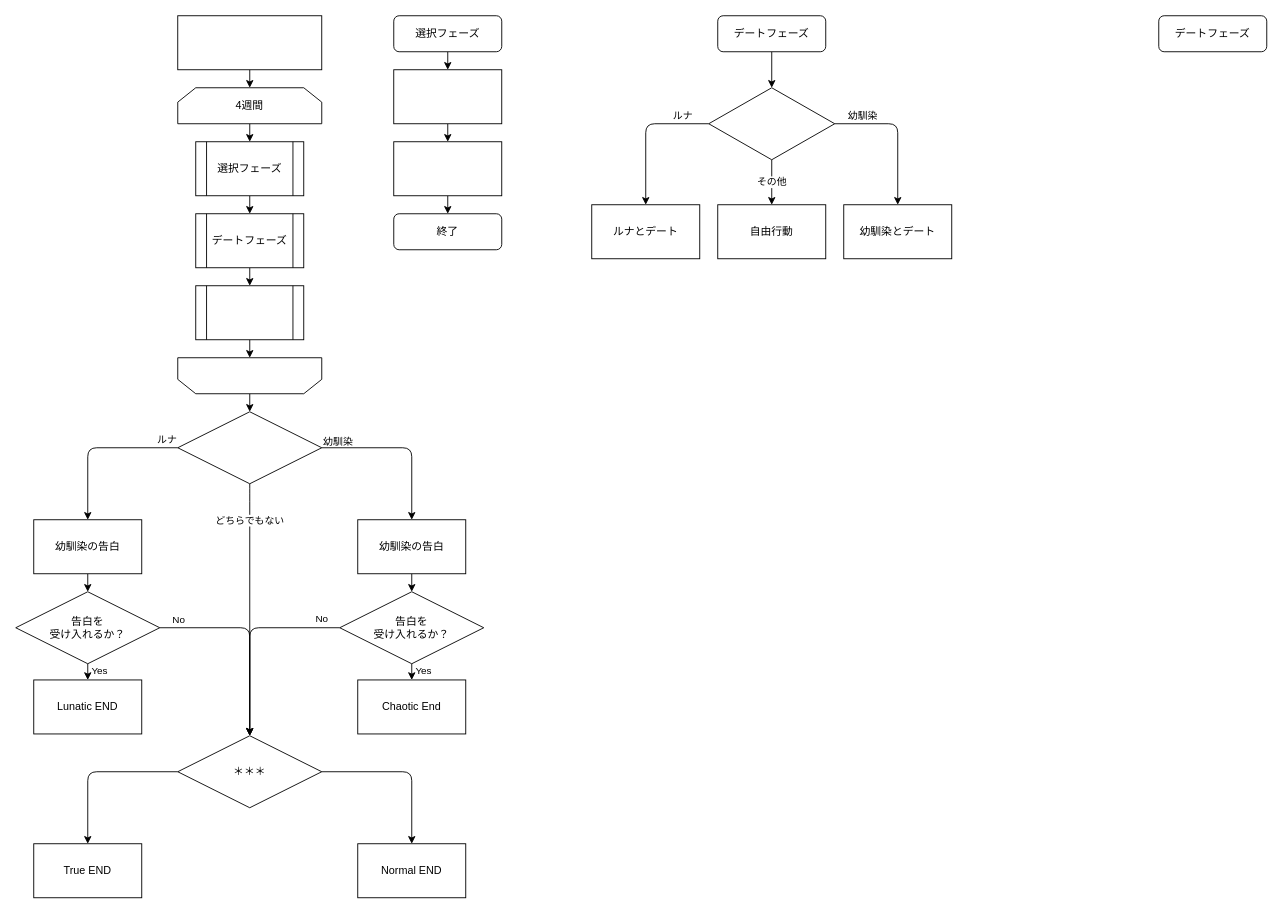
Some shapes in this 1283 by 914 pixel diagram are drawn without their labels. The centre of each missing label's shape, as x and y in pixels:
ルナちゃんとの出会い: (249,42)
好感度は どちらが高いか？: (249,447)
行動の決定: (447,168)
誰と遊びに行く？: (771,123)
週末の予定: (447,96)
防衛フェーズ: (249,312)
